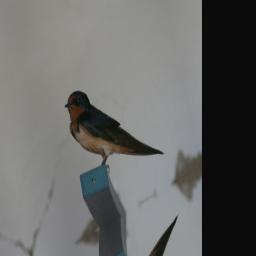Swallow: (60, 47, 166, 206)
